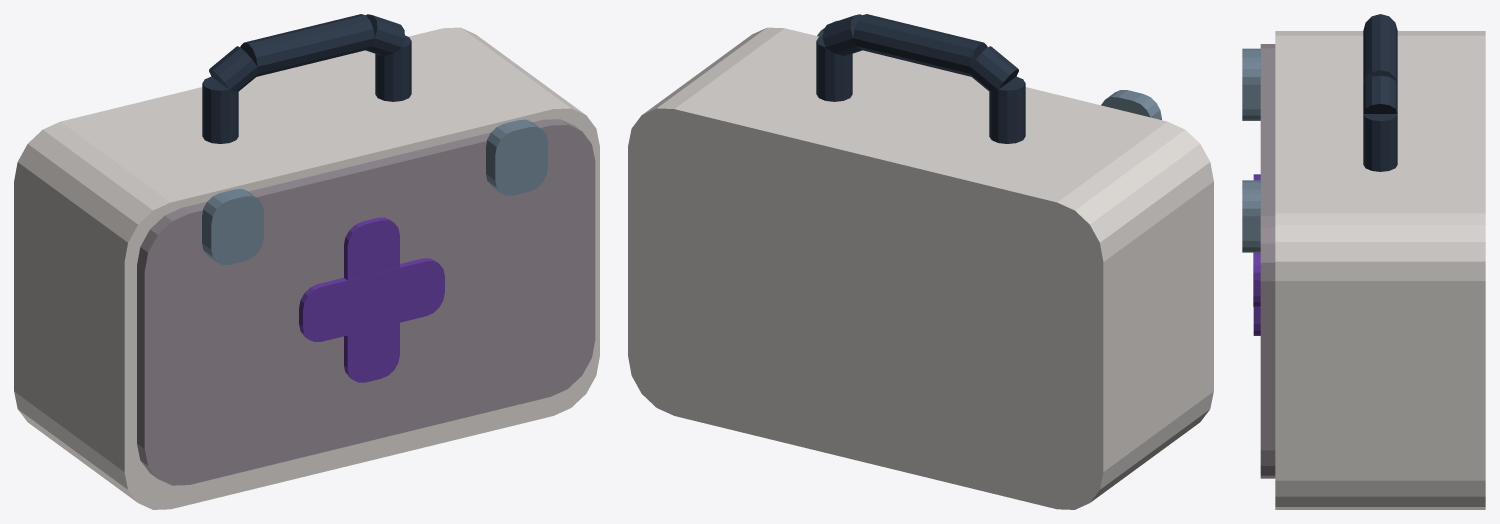
The model's file is firstaid.glb.
The picture shows the model from 3 angles, left to right: view 1: azimuth 30°, elevation 25°; view 2: azimuth 150°, elevation 25°; view 3: azimuth 270°, elevation 25°; orthographic projection. The views are drawn at different scales.
Visible parts, largest first — view 1: lid, case, cross horizontal, cross vertical, carry handle2, closure 0.46, closure -0.46, carry handle0, carry handle4, carry handle1, carry handle3; view 2: case, carry handle2, carry handle0, carry handle4, carry handle1, carry handle3, closure -0.46; view 3: case, lid, carry handle2, carry handle4, closure -0.46, closure 0.46, carry handle3, cross horizontal, cross vertical.
Boxes of the visible parts, bbox=[...] form: lid: bbox=[137, 119, 595, 485]; case: bbox=[14, 27, 599, 509]; cross horizontal: bbox=[299, 258, 444, 341]; cross vertical: bbox=[344, 217, 399, 382]; carry handle2: bbox=[240, 14, 374, 76]; closure 0.46: bbox=[486, 119, 547, 195]; closure -0.46: bbox=[202, 189, 263, 264]; carry handle0: bbox=[202, 76, 238, 143]; carry handle4: bbox=[375, 35, 411, 101]; carry handle1: bbox=[209, 46, 258, 91]; carry handle3: bbox=[366, 14, 404, 55]; case: bbox=[628, 27, 1213, 509]; carry handle2: bbox=[853, 14, 987, 76]; carry handle0: bbox=[989, 76, 1025, 143]; carry handle4: bbox=[816, 35, 852, 101]; carry handle1: bbox=[969, 46, 1018, 91]; carry handle3: bbox=[823, 14, 861, 55]; closure -0.46: bbox=[1101, 90, 1161, 119]; case: bbox=[1275, 31, 1485, 509]; lid: bbox=[1260, 44, 1275, 478]; carry handle2: bbox=[1363, 15, 1397, 84]; carry handle4: bbox=[1363, 114, 1397, 171]; closure -0.46: bbox=[1242, 48, 1260, 120]; closure 0.46: bbox=[1242, 180, 1260, 252]; carry handle3: bbox=[1363, 75, 1397, 113]; cross horizontal: bbox=[1253, 252, 1260, 307]; cross vertical: bbox=[1253, 174, 1260, 335].
Bounding box in the file's own units: 1.54 × 1.22 × 0.7175.
